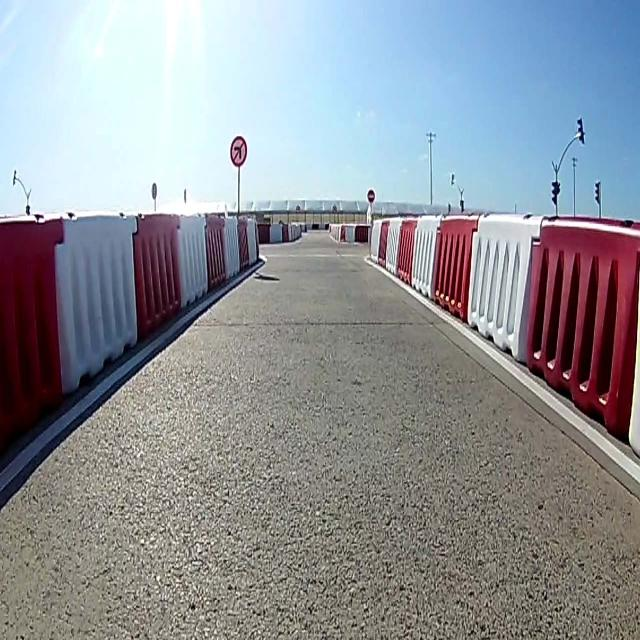girisyok: (367, 189, 375, 203)
soladonulmez: (230, 134, 248, 166)
